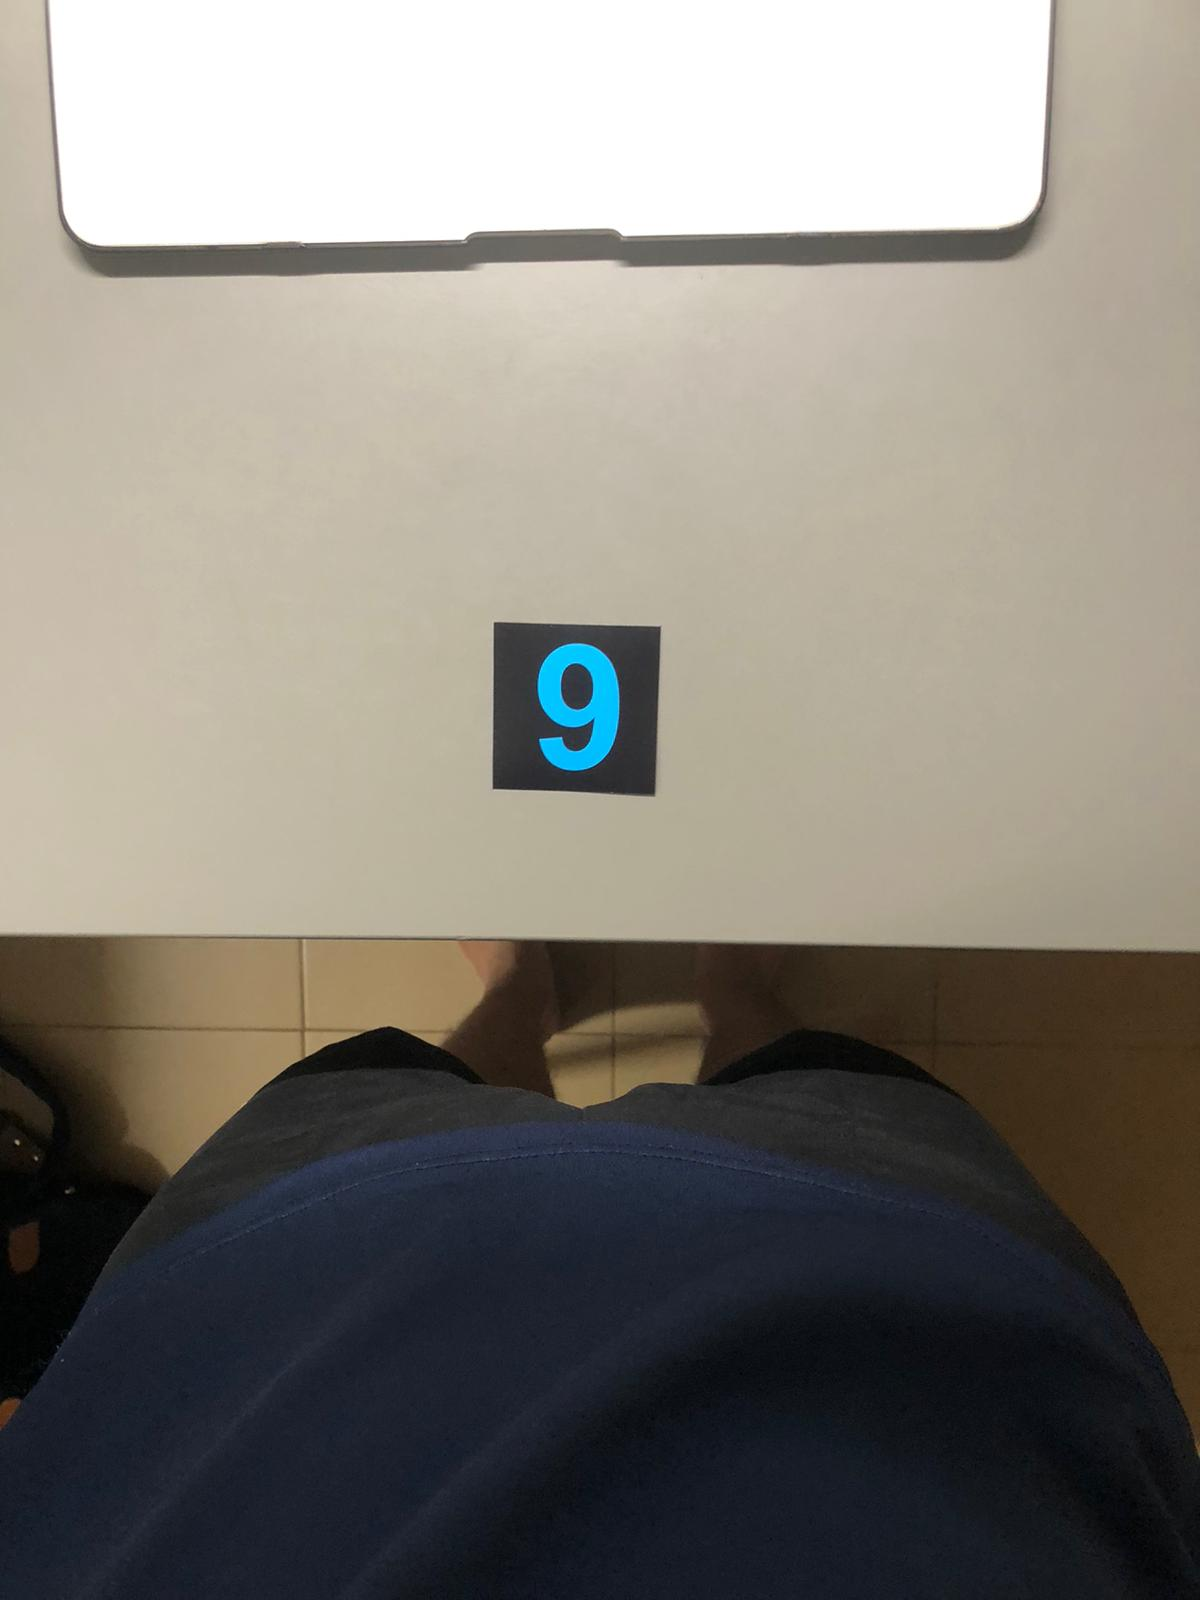Number 9: (487, 619, 659, 795)
